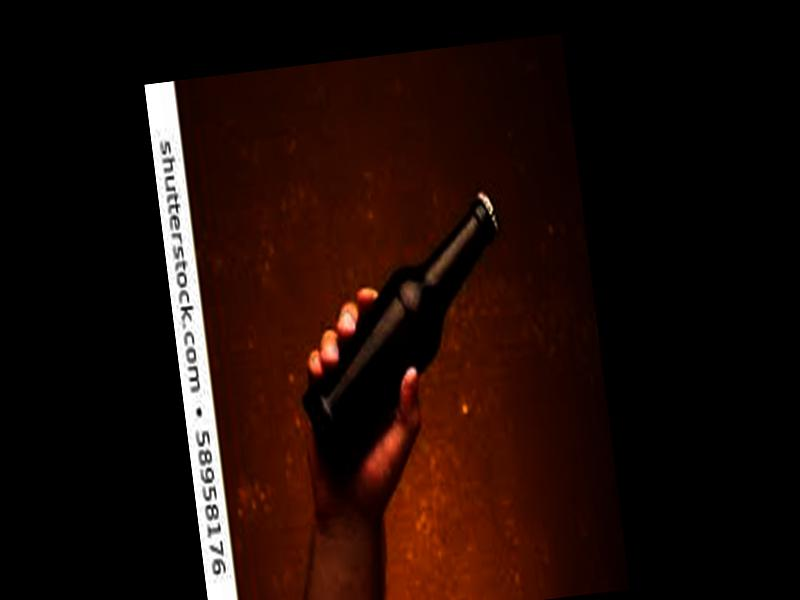Beer: (279, 185, 529, 490)
